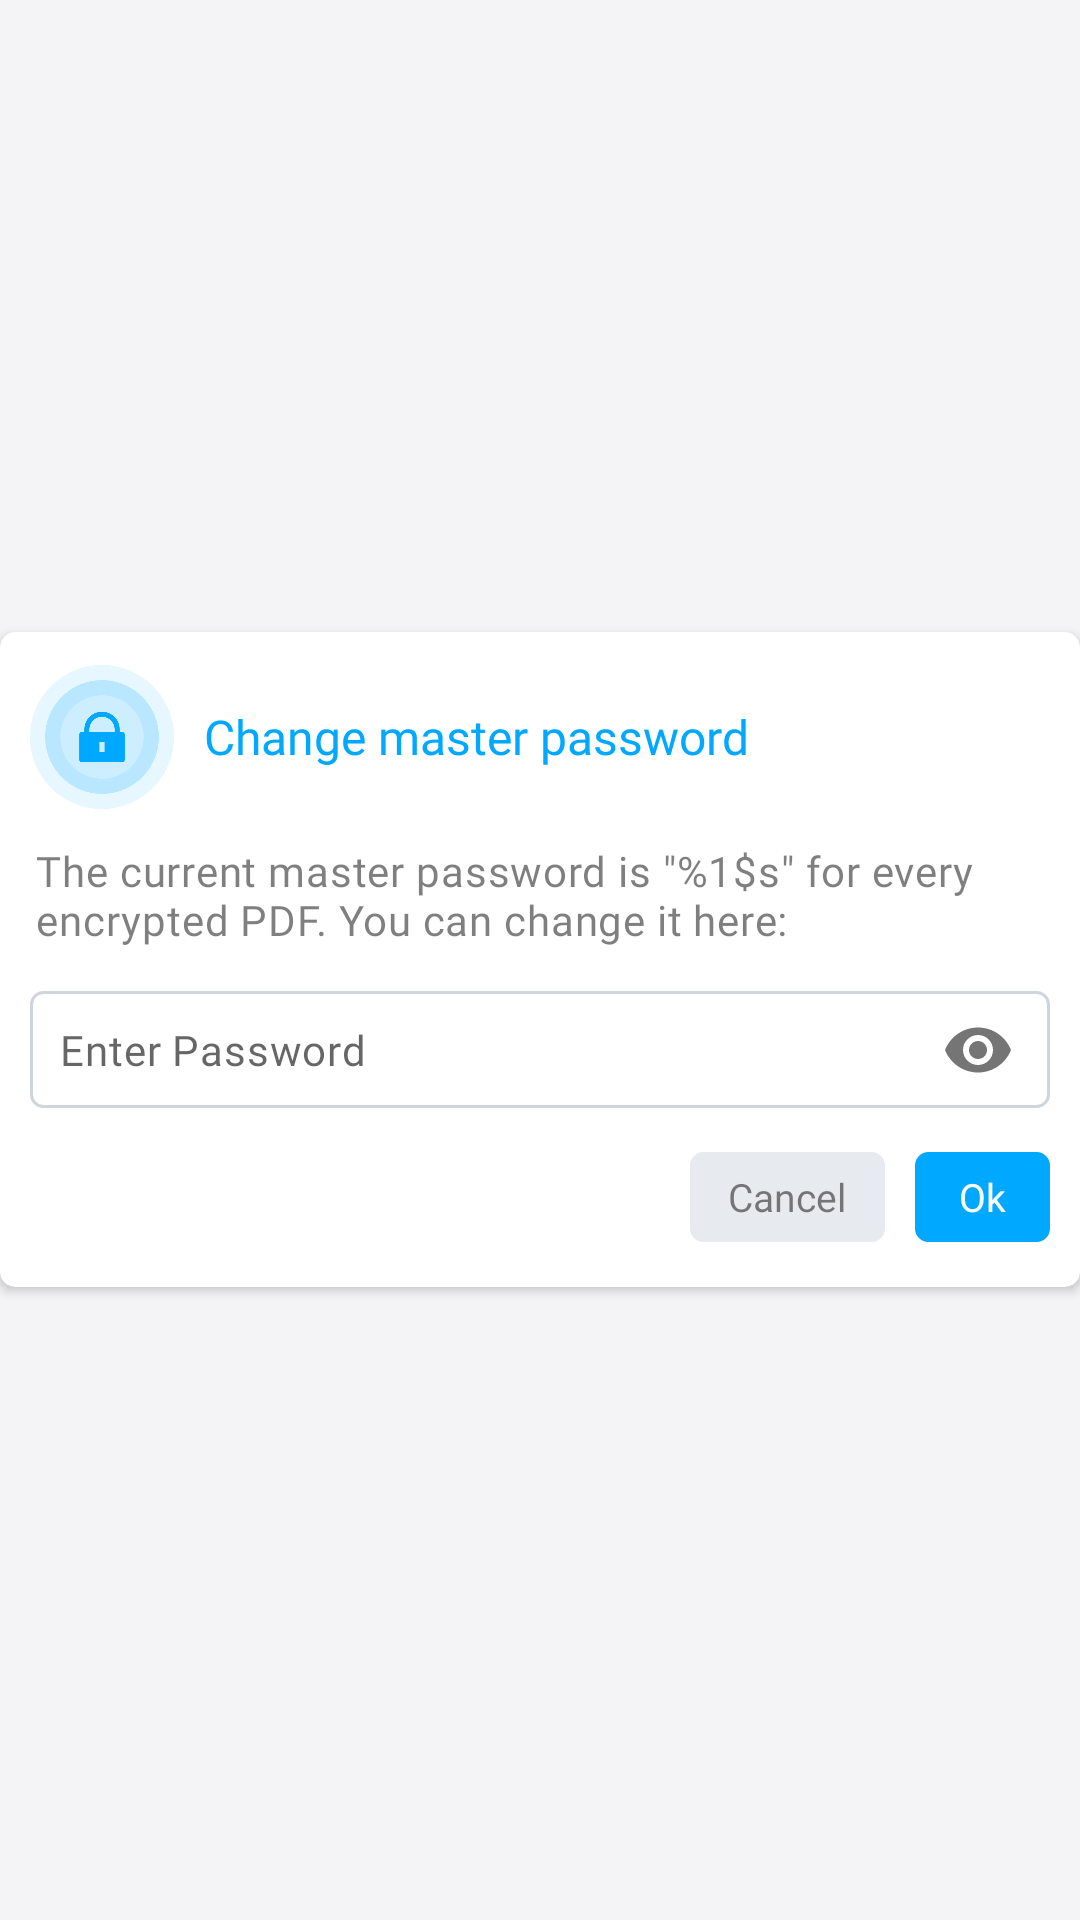

Point at icon controls on the screen. Image size 1080x1920, points as point (x, y).
set password: point (102, 737)
